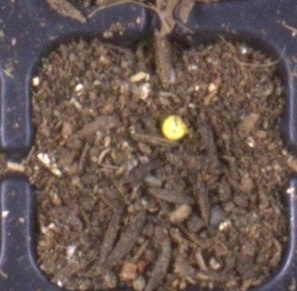chilli seed: (162, 114, 187, 141)
